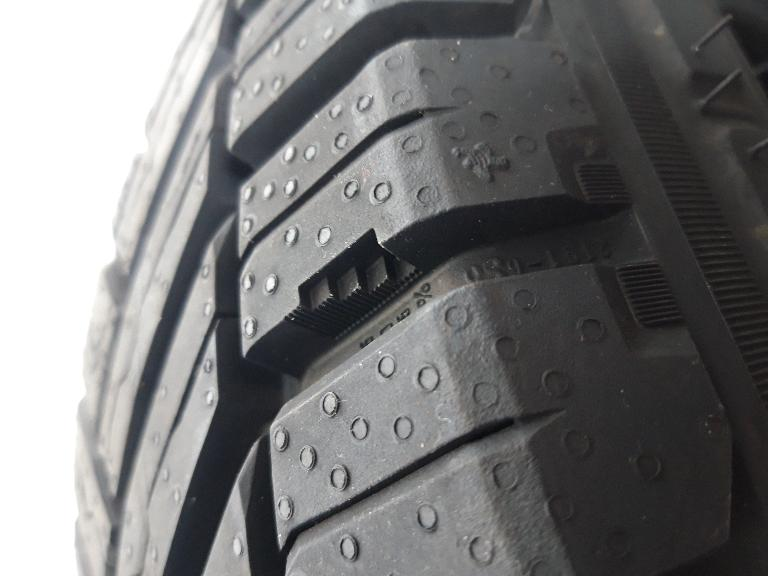temoin:100: (277, 222, 433, 347)
